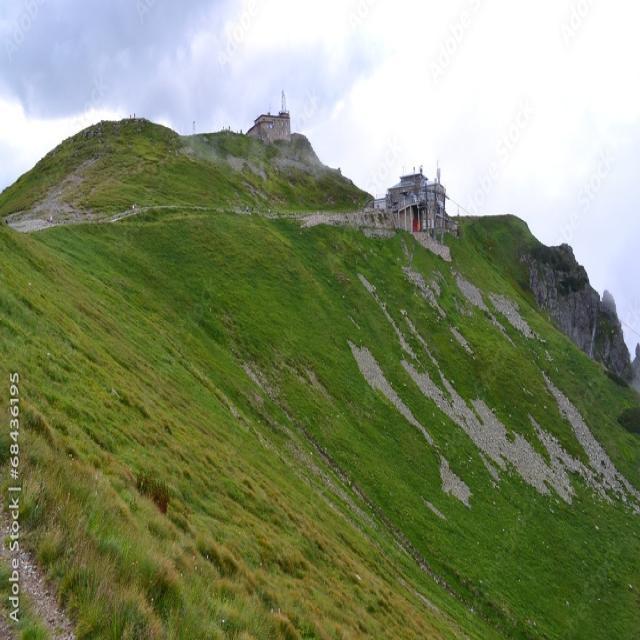Kasprowy Wierch: (198, 24, 365, 229)
